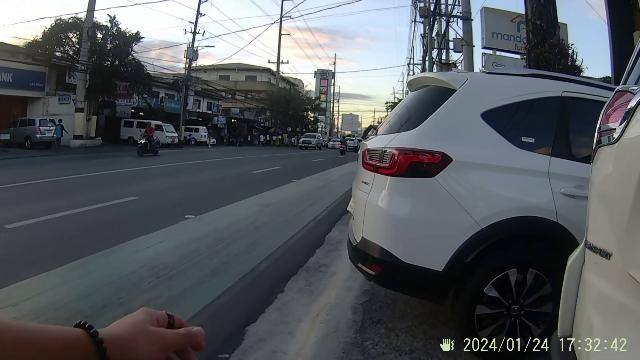car: (342, 46, 632, 360)
